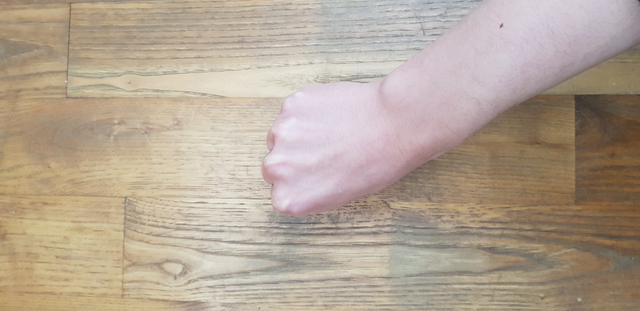Rock: (241, 72, 427, 227)
